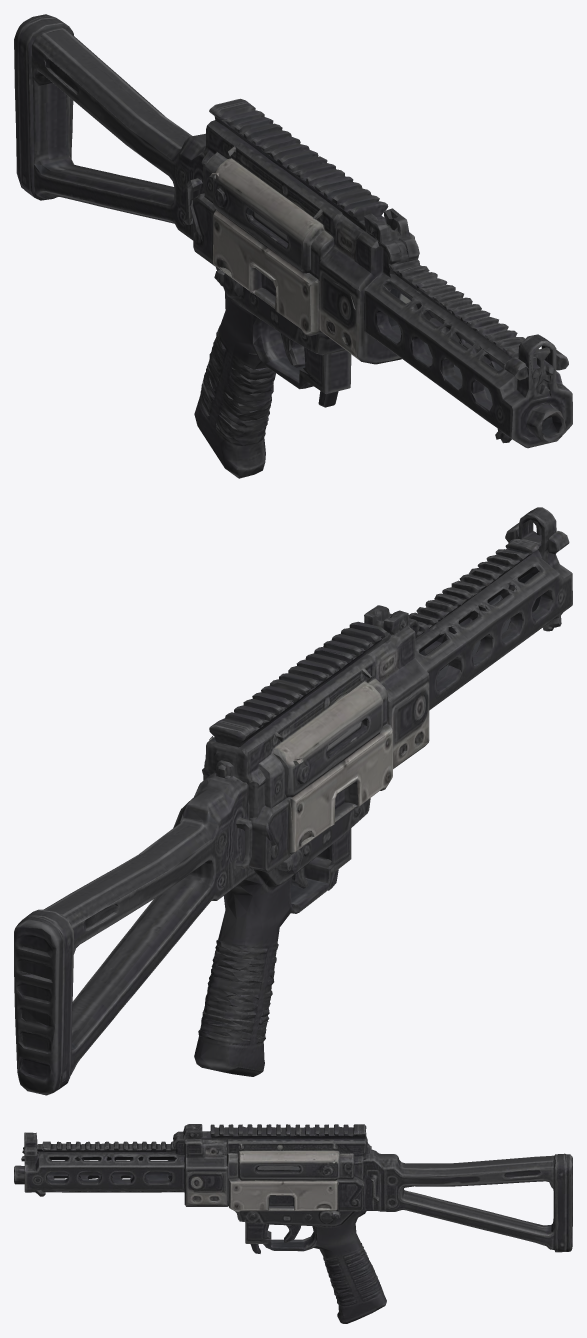
Rendered from compact_carbine.medium.glb.
The picture shows the model from 3 angles, top to bottom: view 1: azimuth 30°, elevation 25°; view 2: azimuth 150°, elevation 25°; view 3: azimuth 270°, elevation 25°; orthographic projection. The views are drawn at different scales.
Parts seen in each view (by area): view 1: model; view 2: model; view 3: model.
Part boxes in pixels (x1,y1,x2,y2): model: [14, 14, 572, 478]; model: [14, 507, 572, 1095]; model: [14, 1124, 572, 1323].
Bounding box in the file's own units: 0.0694 × 0.254 × 0.66.
1 material, 1 textured.
